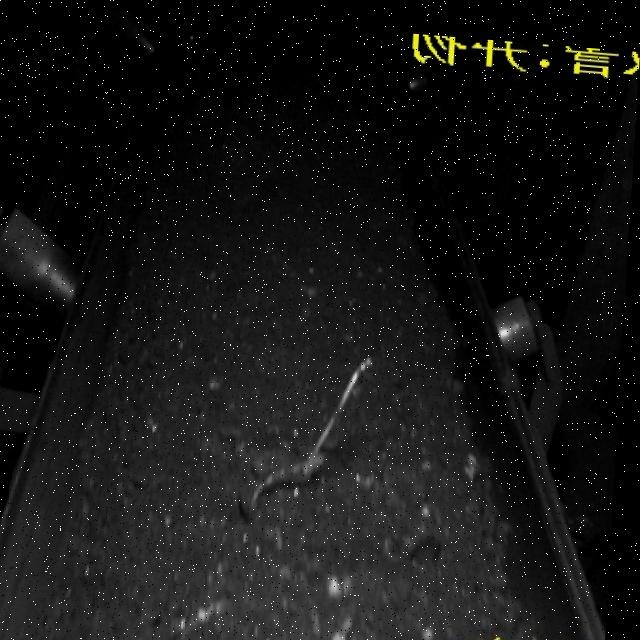bolt: (240, 341, 383, 527)
